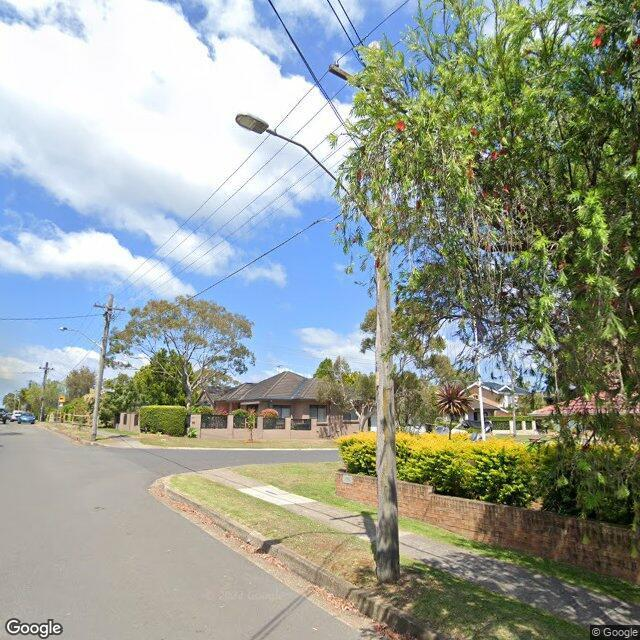crossarm: (327, 62, 408, 114), (92, 304, 126, 312), (38, 366, 54, 371)
streetlight: (233, 112, 378, 232), (58, 326, 104, 350)
timber-pole: (367, 40, 402, 584), (90, 293, 115, 443), (474, 315, 486, 441), (38, 362, 49, 422)
